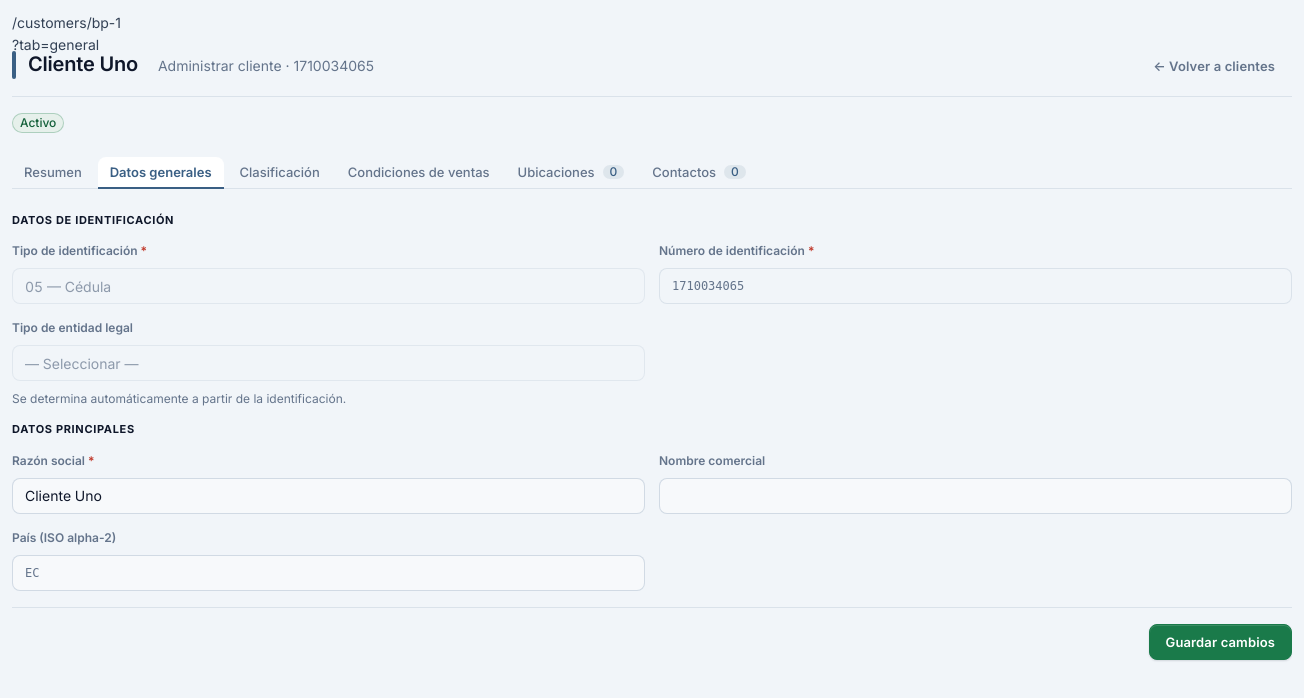
ficha unificada — Datos generales (wizard embebido) › un fallo del servidor se informa en el formulario y no se anuncia como éxito
Replace the text in the field labelled "Razón social*" with "Otro" at (328, 496), box [12,478,645,514]
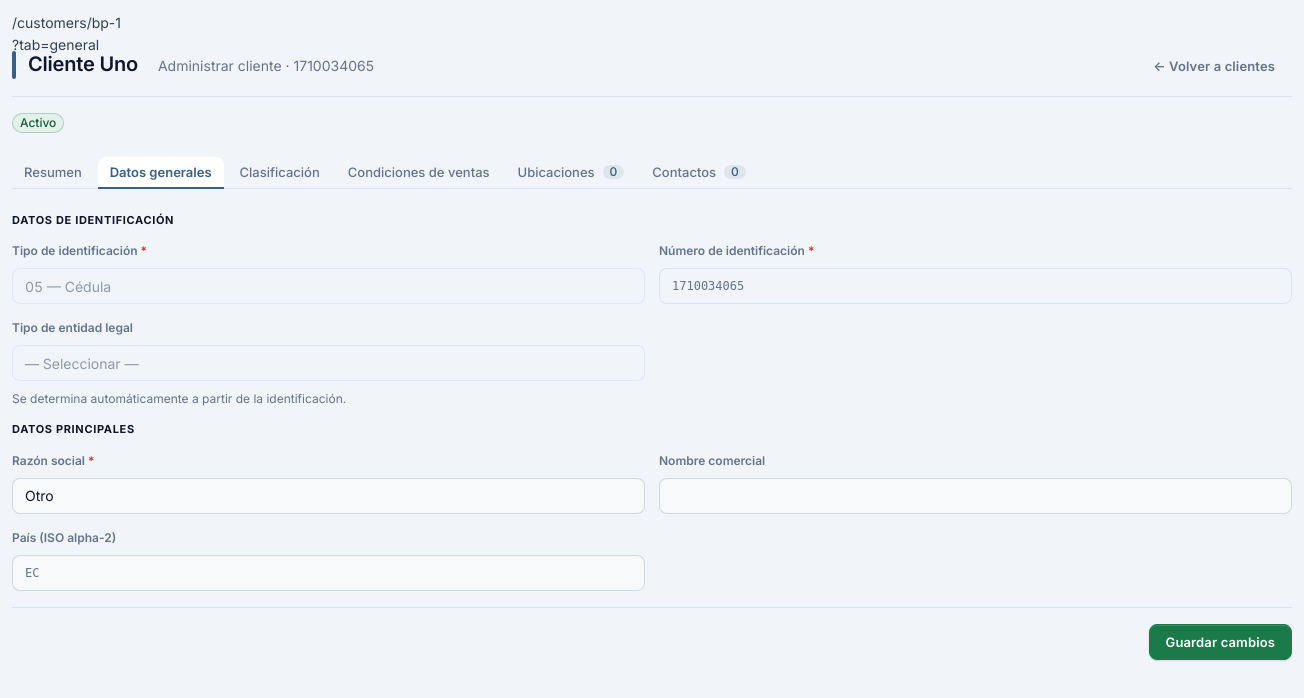
Click the button "Guardar cambios" at (1220, 642), box [1148,624,1292,660]
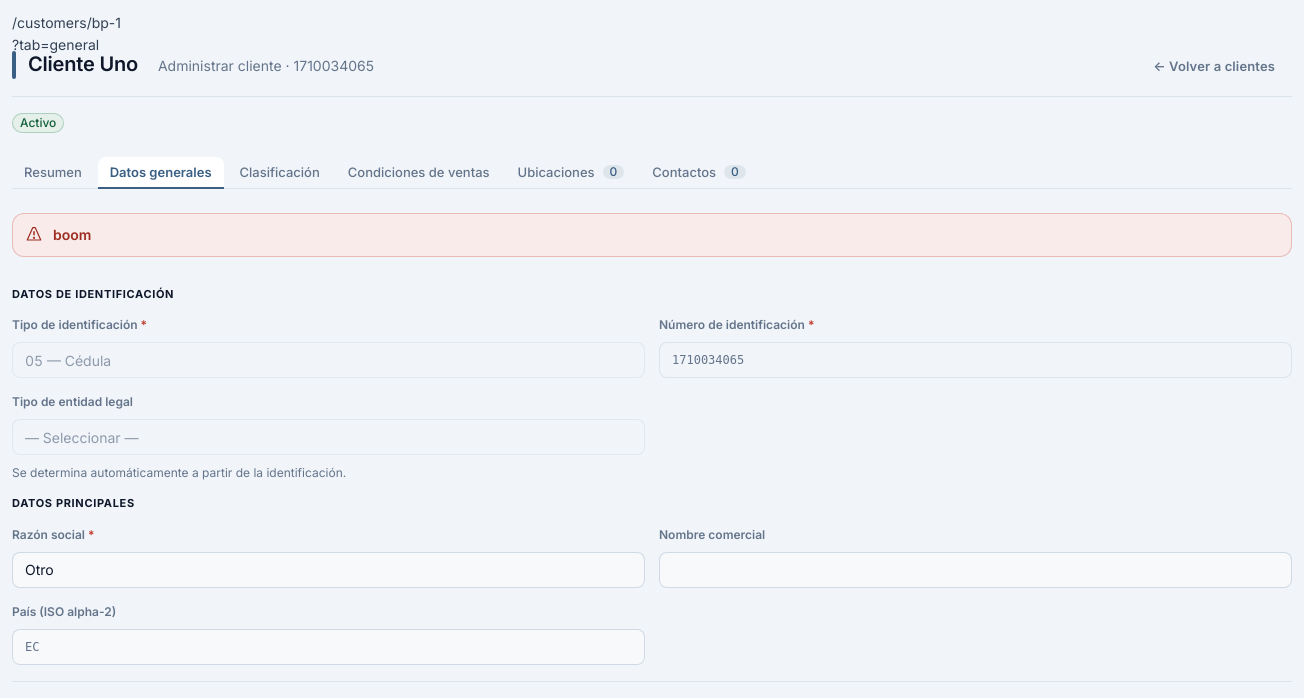
Expected: the text "boom" is shown, [53,224,91,246]
